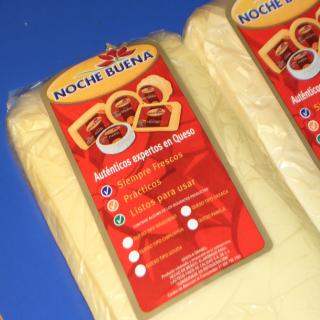Cheese: (5, 31, 320, 320), (181, 0, 320, 231)
